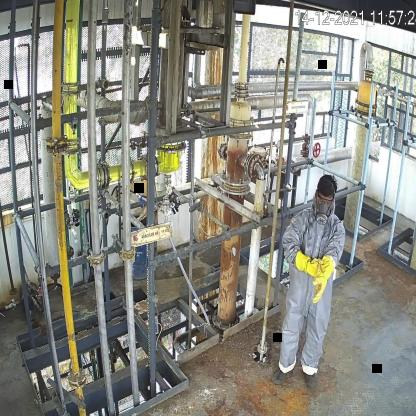goggles: (316, 194, 335, 204)
mask: (314, 201, 331, 225)
